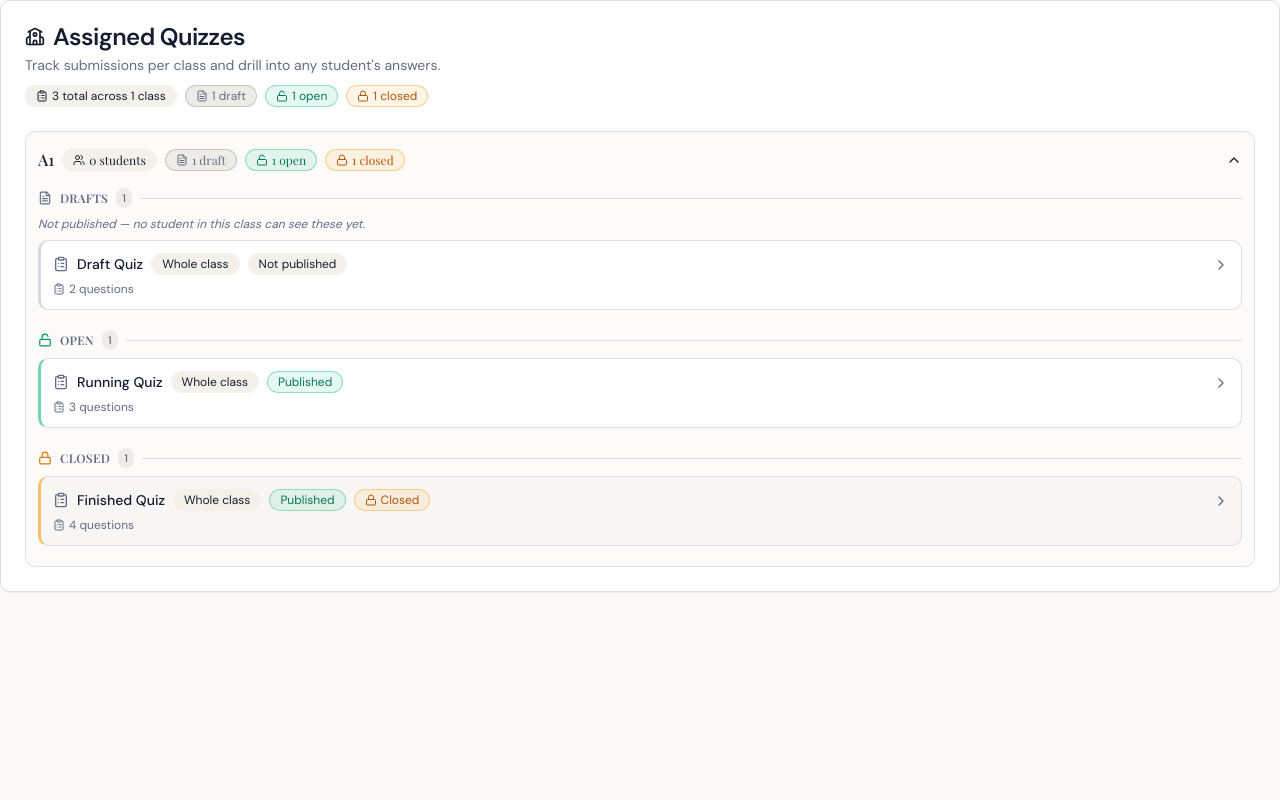
Test: AssignedQuizzesBoard › publishes a draft and moves its card into the Open group
This screenshot has width=1280, height=800.
Click the button "Draft Quiz Whole class Not published 2 questions".
click(110, 264)  # box [41, 241, 1241, 309]
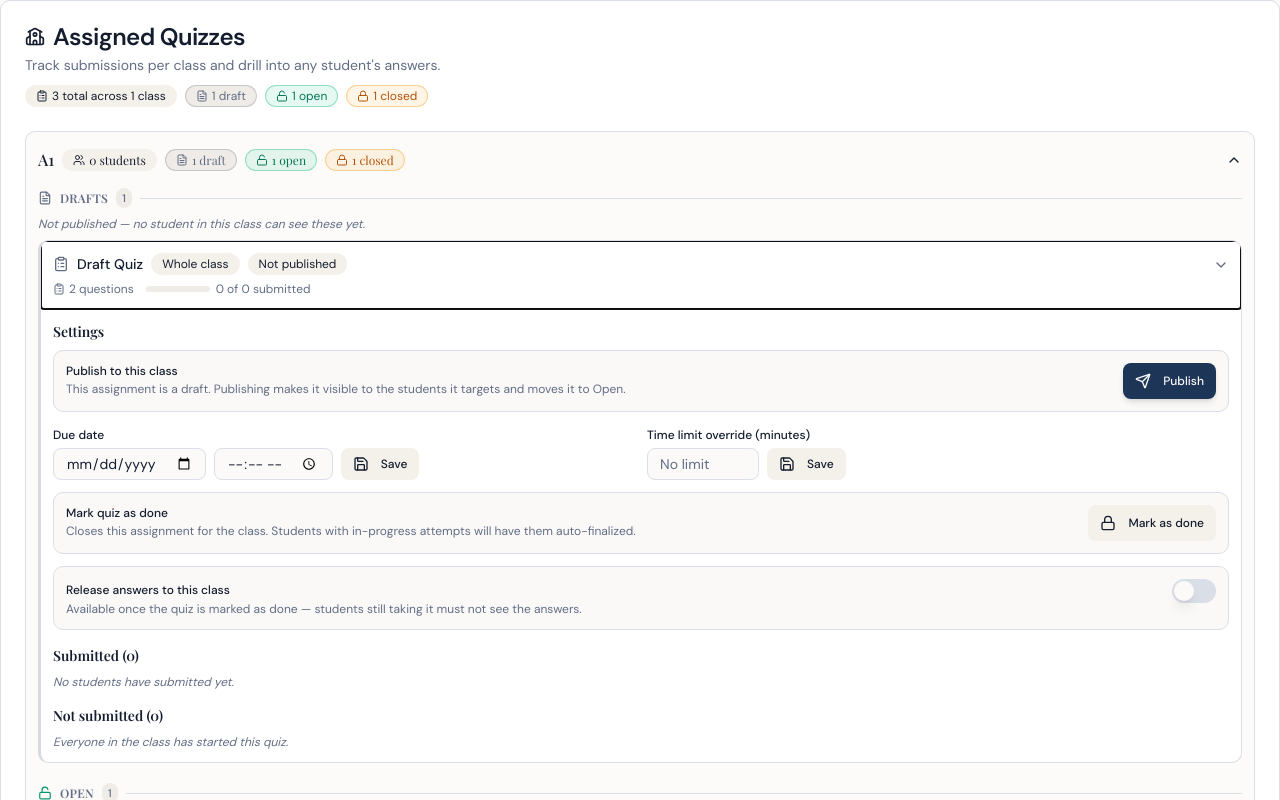
Click the button with test id "publish-oq-draft".
click(1170, 381)  # box [1123, 363, 1216, 399]
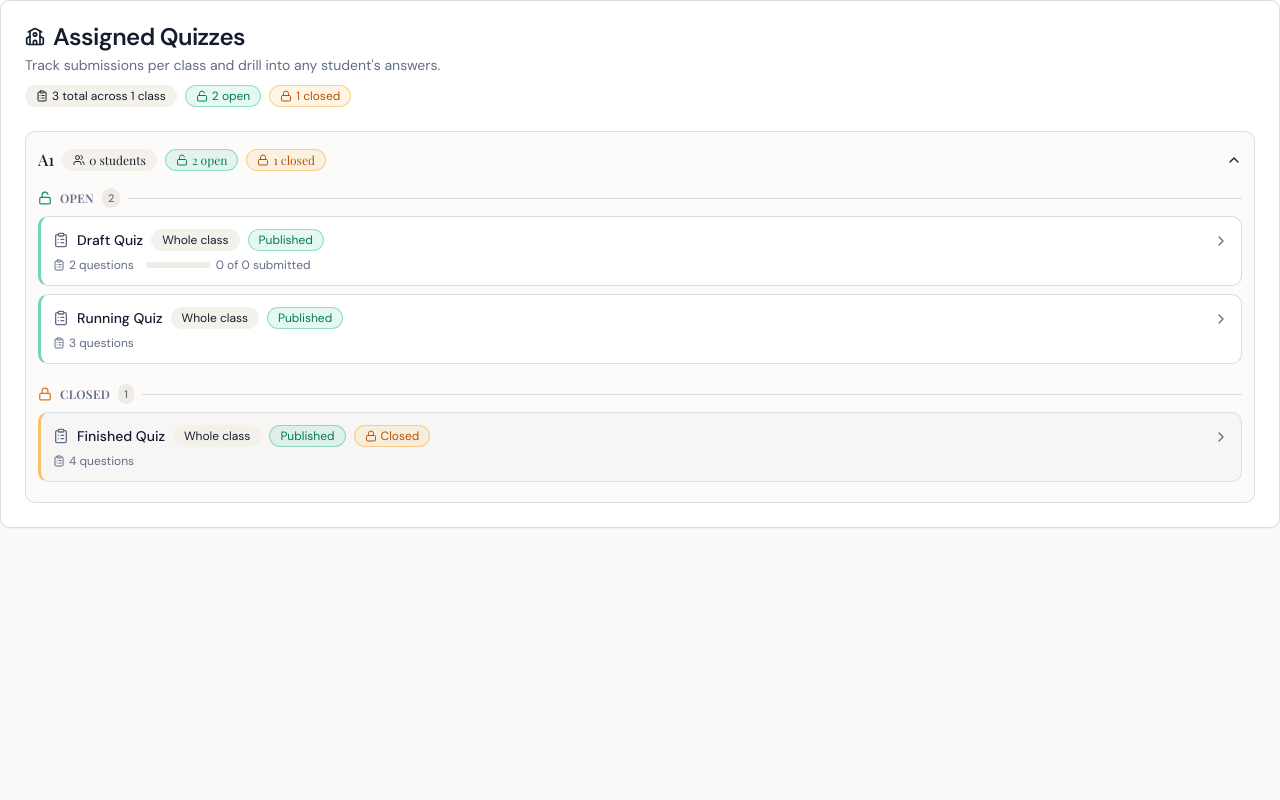
Expected: the element with test id "assignment-card-oq-draft" is shown, [38, 216, 1242, 286]
Expected: the element with test id "draft-assignments-cls-1" is gone
